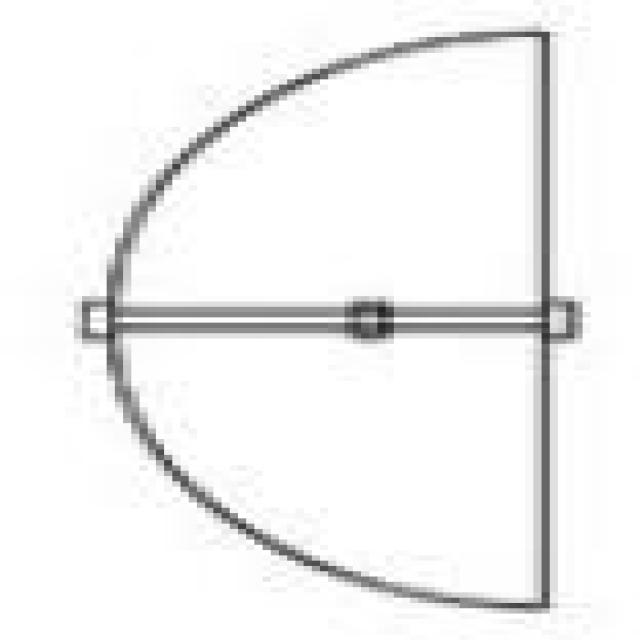door: (74, 26, 566, 603)
